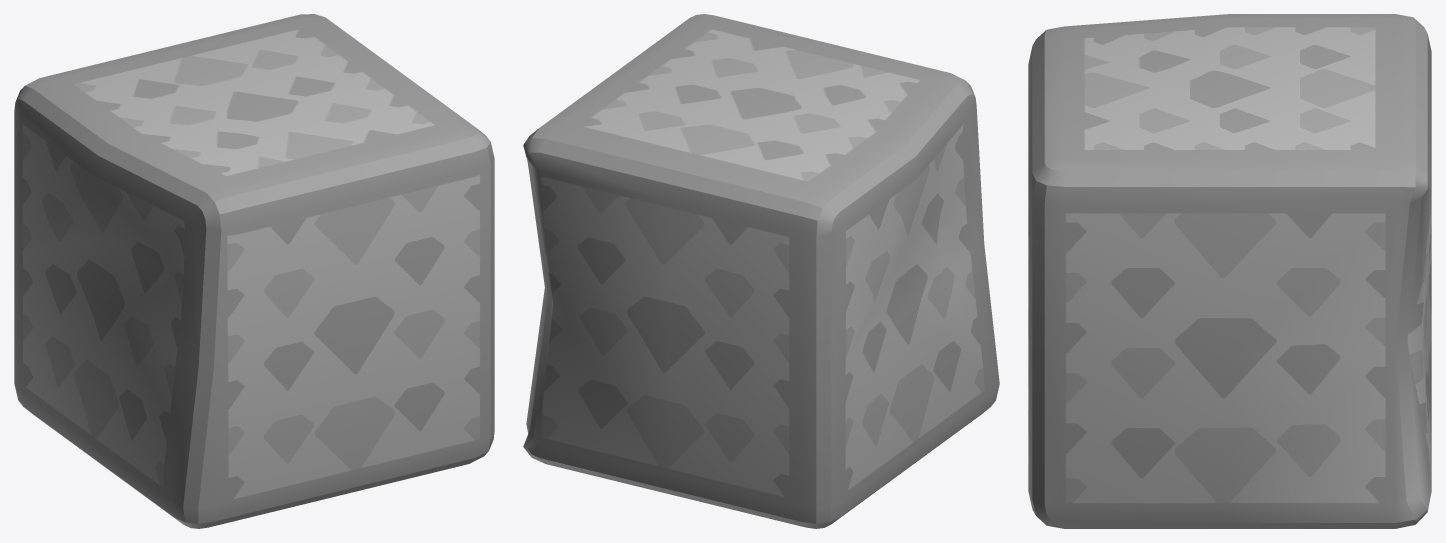
Rendered from cubePlatform.FBX.
The picture shows the model from 3 angles, left to right: view 1: azimuth 30°, elevation 25°; view 2: azimuth 150°, elevation 25°; view 3: azimuth 270°, elevation 25°; orthographic projection. The views are drawn at different scales.
Parts seen in each view (by area): view 1: Box001; view 2: Box001; view 3: Box001.
Part boxes in pixels (<box>): Box001: <box>14,14,494,528</box>; Box001: <box>523,14,999,528</box>; Box001: <box>1028,14,1431,528</box>.
Size of the model in its own units: 20.72 by 20.72 by 20.73.
